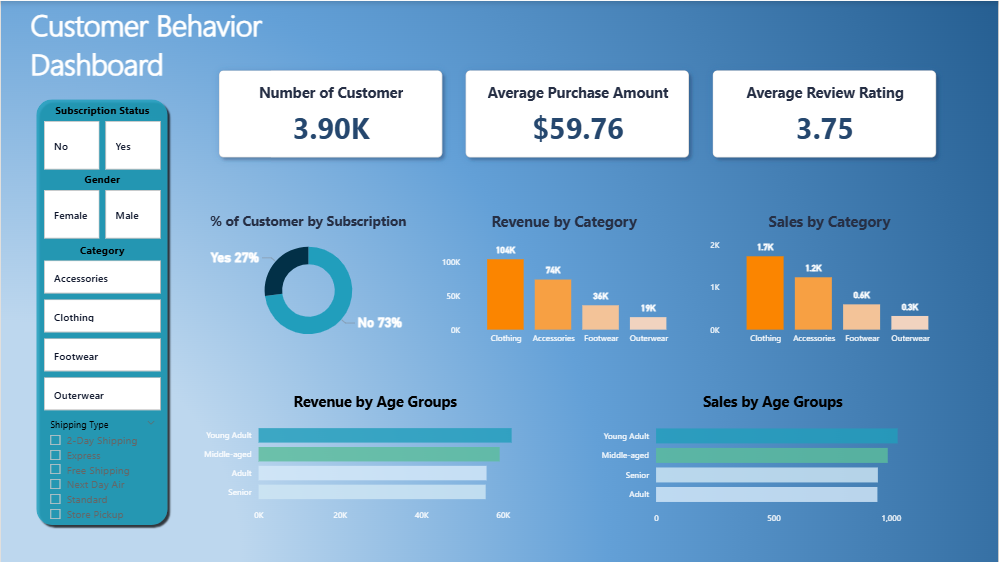

The page's visual inventory and layout, read from the dashboard file:
{"tool":"powerbi","page":{"name":"Page 1","canvas":[1280,720],"ordinal":0},"visuals":[{"type":"shape","box":[39,120,182,560],"z":0},{"type":"cardVisual","fields":{"Data":["_Mesures.Number of Customer","_Mesures.Average Purchase Amount","_Mesures.Average Review Rating"]},"box":[250,60,980,170],"z":1000},{"type":"donutChart","title":"% of Customer by Subscription","fields":{"Category":["public customer.subscription_status"],"Y":["CountNonNull(public customer.customer_id)"]},"box":[250,270,288,180],"z":2000},{"type":"clusteredColumnChart","title":"Revenue by Category","fields":{"Category":["public customer.category"],"Y":["Sum(public customer.purchase_amount)"]},"box":[560,270,325,180],"z":3000},{"type":"clusteredColumnChart","title":"Sales by Category","fields":{"Category":["public customer.category"],"Y":["CountNonNull(public customer.customer_id)"]},"box":[905,270,317,180],"z":4000},{"type":"advancedSlicerVisual","title":"Subscription Status","fields":{"Values":["public customer.subscription_status"]},"box":[50,130,160,90],"z":5000},{"type":"advancedSlicerVisual","title":"Gender","fields":{"Values":["public customer.gender"]},"box":[50,220,160,90],"z":6000},{"type":"advancedSlicerVisual","title":"Category","fields":{"Values":["public customer.category"]},"box":[50,310,160,220],"z":7000},{"type":"slicer","fields":{"Values":["public customer.shipping_type"]},"box":[50,530,160,144],"z":8000},{"type":"clusteredBarChart","title":"Revenue by Age Groups","fields":{"Category":["public customer.age_group"],"Y":["Sum(public customer.purchase_amount)"]},"box":[250,500,460,176],"z":9000},{"type":"clusteredBarChart","title":"Sales by Age Groups","fields":{"Category":["public customer.age_group"],"Y":["CountNonNull(public customer.customer_id)"]},"box":[760,500,460,180],"z":10000},{"type":"textbox","box":[32,0,368,112],"z":11000}]}

Visuals, with their boxes in screenshot pixels (x1, y1, x2, y2), scaled from the page's 1280x720 canvas onto the 999x562 screenshot:
shape: [30, 94, 172, 531]
cardVisual - _Mesures.Number of Customer x _Mesures.Average Purchase Amount: [195, 47, 960, 180]
"% of Customer by Subscription" donutChart: [195, 211, 420, 351]
"Revenue by Category" clusteredColumnChart: [437, 211, 691, 351]
"Sales by Category" clusteredColumnChart: [706, 211, 954, 351]
"Subscription Status" advancedSlicerVisual: [39, 101, 164, 172]
"Gender" advancedSlicerVisual: [39, 172, 164, 242]
"Category" advancedSlicerVisual: [39, 242, 164, 414]
slicer - public customer.shipping_type: [39, 414, 164, 526]
"Revenue by Age Groups" clusteredBarChart: [195, 390, 554, 528]
"Sales by Age Groups" clusteredBarChart: [593, 390, 952, 531]
textbox: [25, 0, 312, 87]
